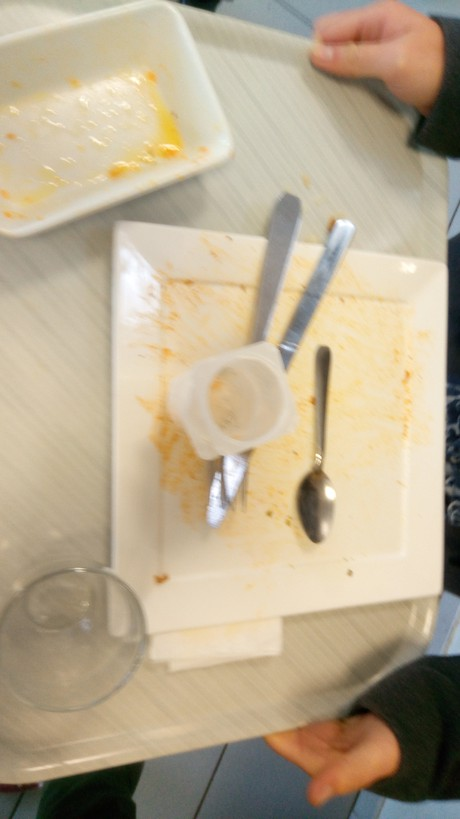cup: (1, 551, 159, 748)
cutlery: (196, 207, 372, 539), (302, 344, 340, 541)
trash: (169, 338, 290, 459)
